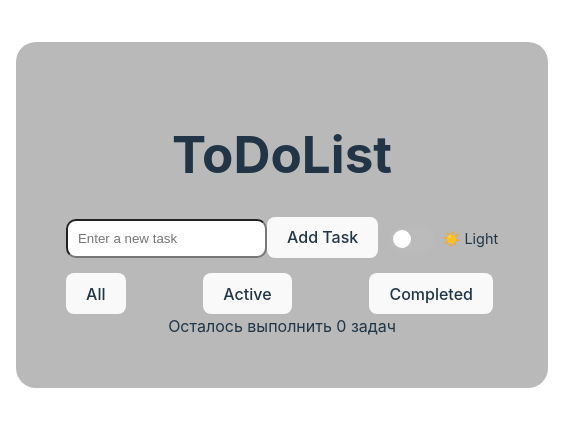
ToDoList › should add a new task
Type "New Task" into the field with placeholder "Enter a new task".
click(166, 239); type("New Task")  # box [66,219,267,258]
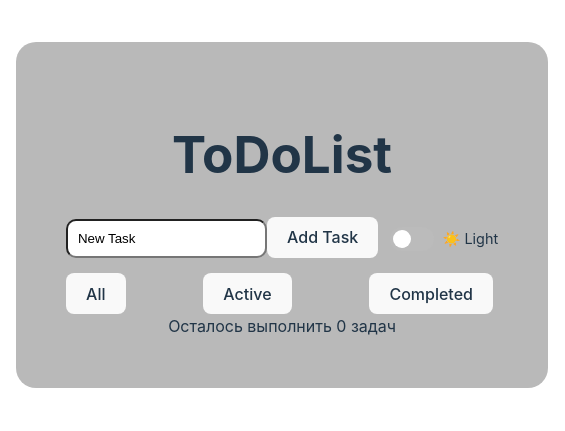
Click the button "Add Task".
click(323, 237)  # box [267,217,378,258]
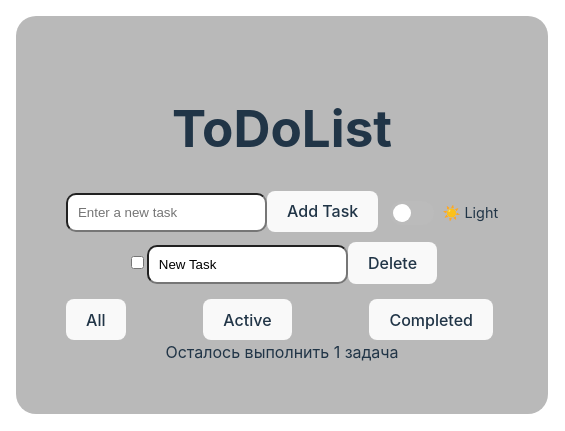
Check: the field showing "New Task" is shown, box [147,245,348,284]
